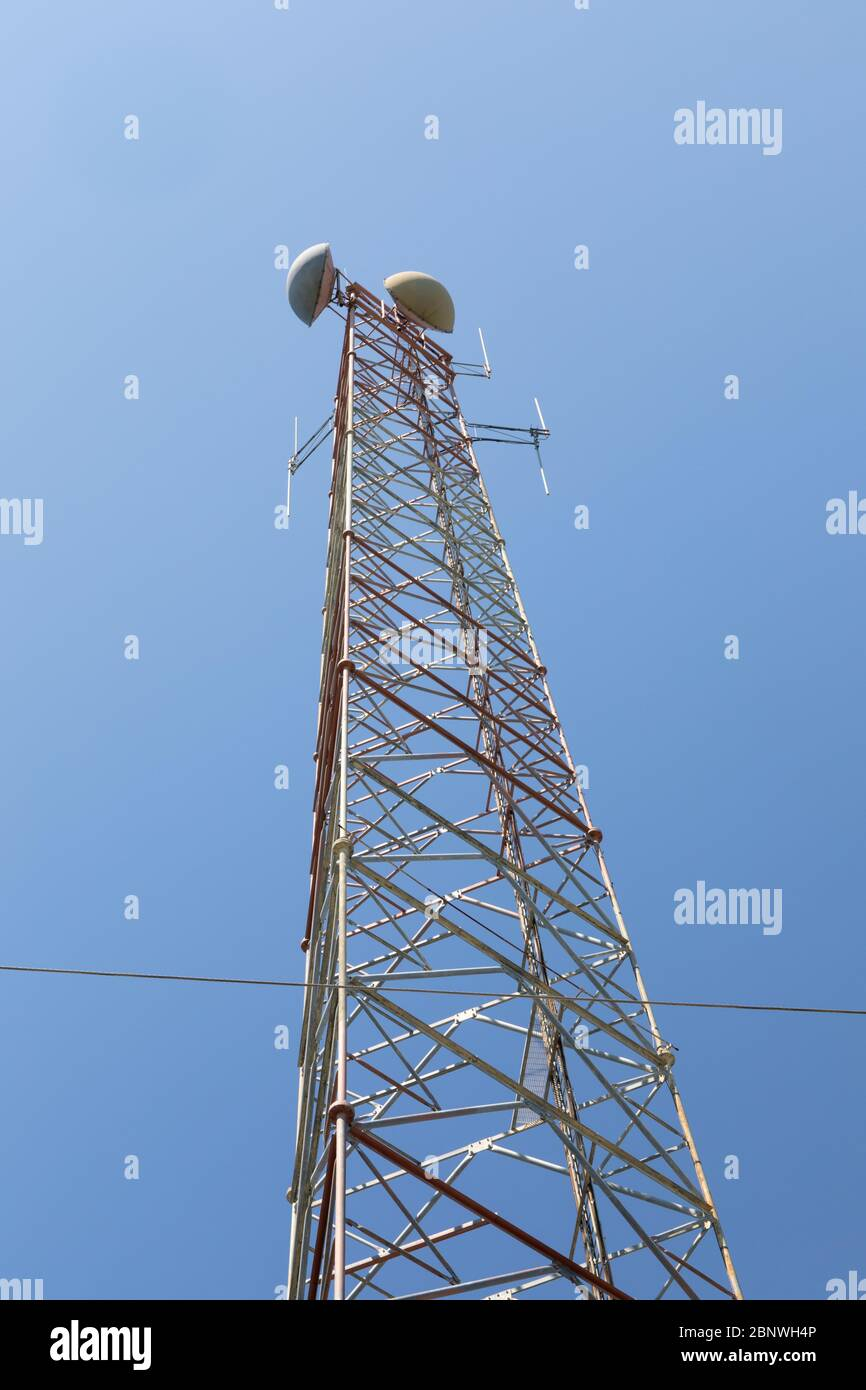ba: (271, 222, 348, 326)
